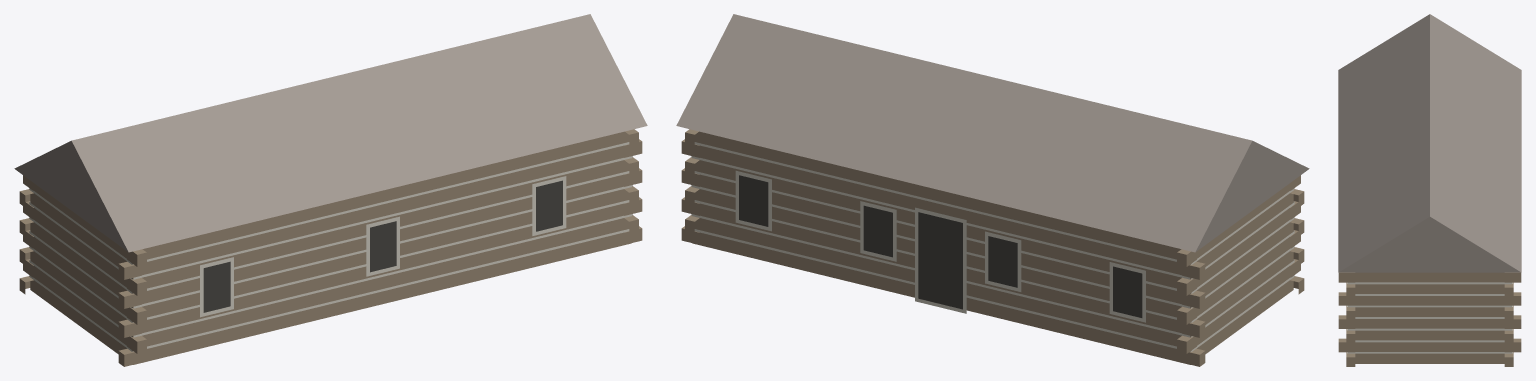
File: fort_dearborn_store_house__log_1816.glb
3 renders of one model, left to right at view 1: azimuth 30°, elevation 25°; view 2: azimuth 150°, elevation 25°; view 3: azimuth 270°, elevation 25°, orthographic. The views are drawn at different scales.
Parts seen in each view (by area): view 1: fort_dearborn_store_house__log_1816; view 2: fort_dearborn_store_house__log_1816; view 3: fort_dearborn_store_house__log_1816.
Boxes of the visible parts, x1,y1,x2,y2 form: fort_dearborn_store_house__log_1816: (14, 14, 647, 366); fort_dearborn_store_house__log_1816: (676, 14, 1309, 366); fort_dearborn_store_house__log_1816: (1338, 14, 1521, 366).
Size of the model in its own units: 12.74 by 4.51 by 4.87.
